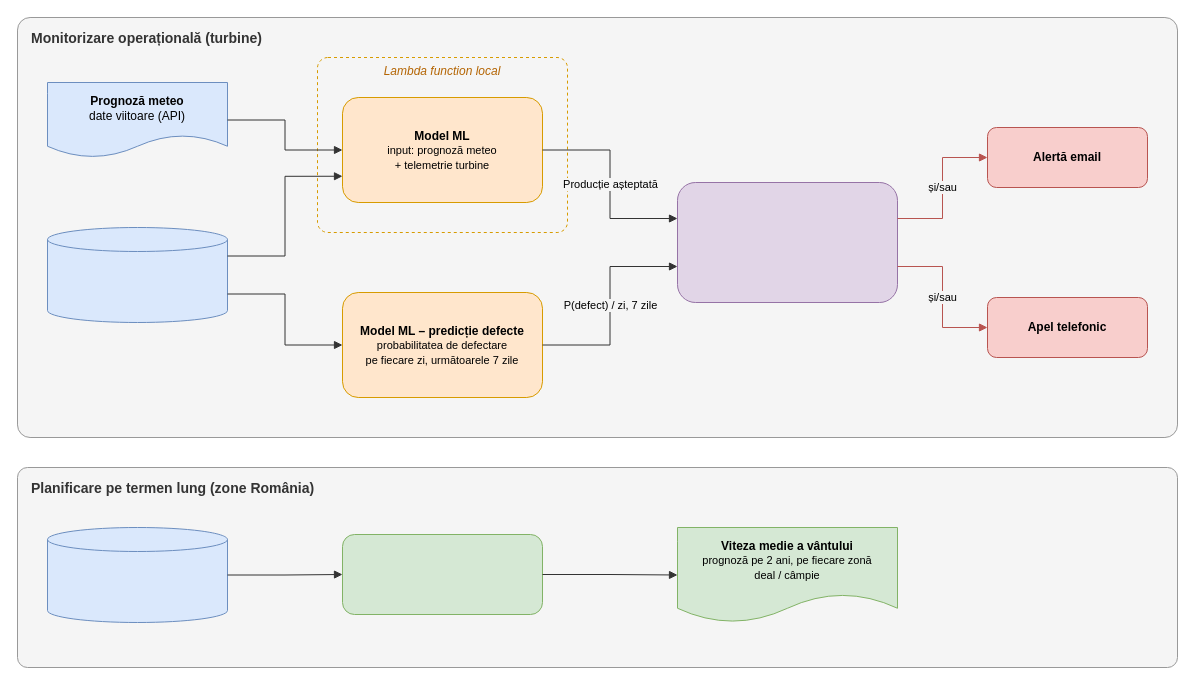
The diagram is 1195 pixels wide and 685 high, and some of its shapes have lost their labels. Each missing label, with the centre of its shape:
"Agent decizional JEV decide pe baza output-urilor celor două modele" goes at point 787,242.
"Calcul statistic" goes at point 442,574.
"Date telemetrice turbine eoliene" goes at point 137,274.
"Date vânt zone din România" goes at point 137,574.
